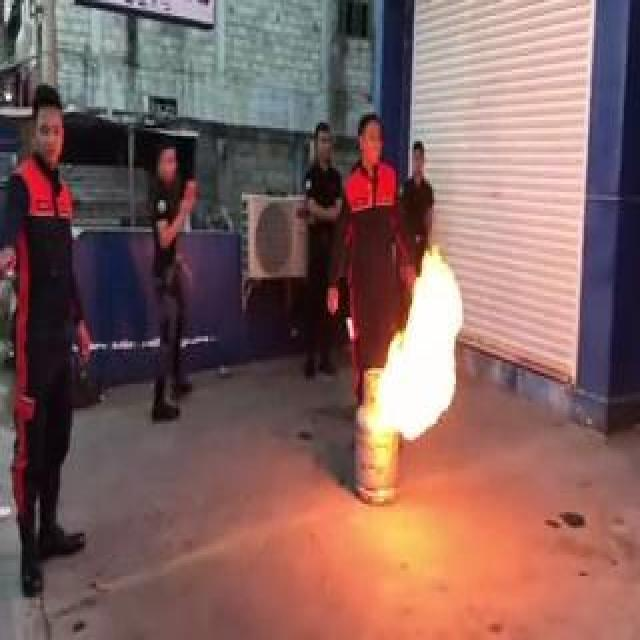Fire: (386, 252, 461, 438)
